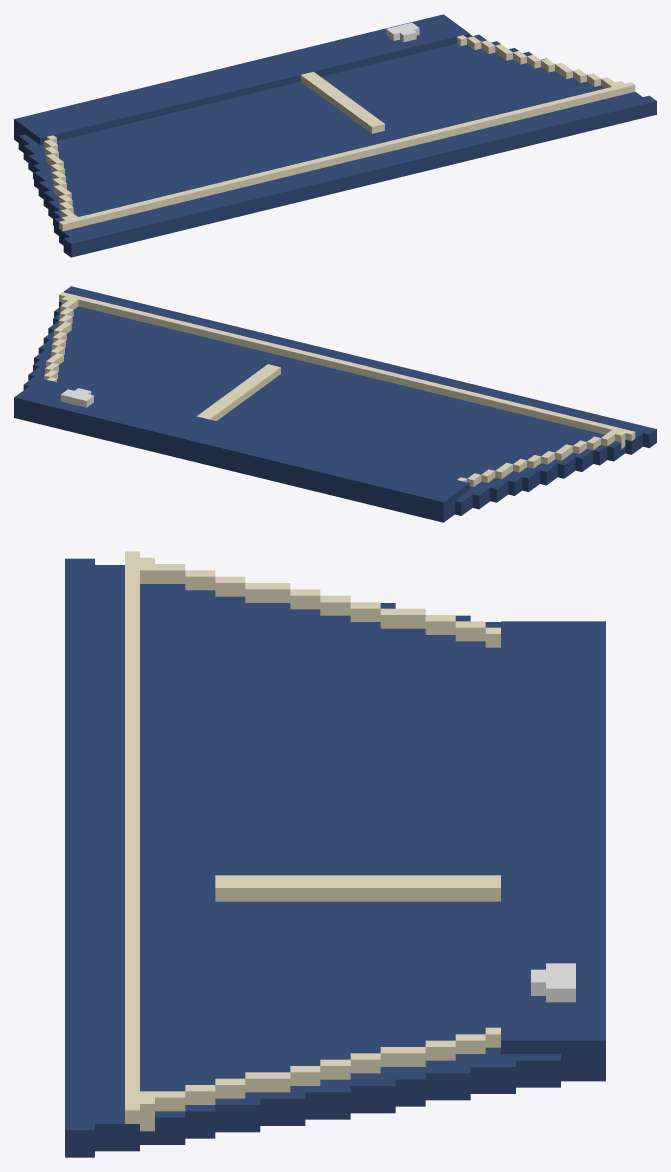
The model's file is nanoskirt.glb.
3 renders of one model, top to bottom at view 1: azimuth 30°, elevation 25°; view 2: azimuth 150°, elevation 25°; view 3: azimuth 270°, elevation 25°, orthographic. The views are drawn at different scales.
Visible parts, largest first — view 1: nanoskirt:compound; view 2: nanoskirt:compound; view 3: nanoskirt:compound.
Boxes of the visible parts, box(x1,y1,x2,y2) form: nanoskirt:compound: box(14, 14, 656, 257); nanoskirt:compound: box(14, 286, 656, 522); nanoskirt:compound: box(65, 551, 605, 1157).
Size of the model in its own units: 0.36 by 0.016 by 0.144.
